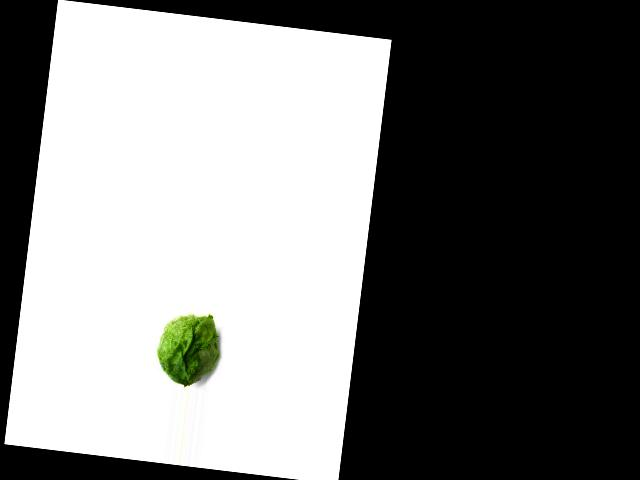lettuce: (149, 309, 227, 389)
